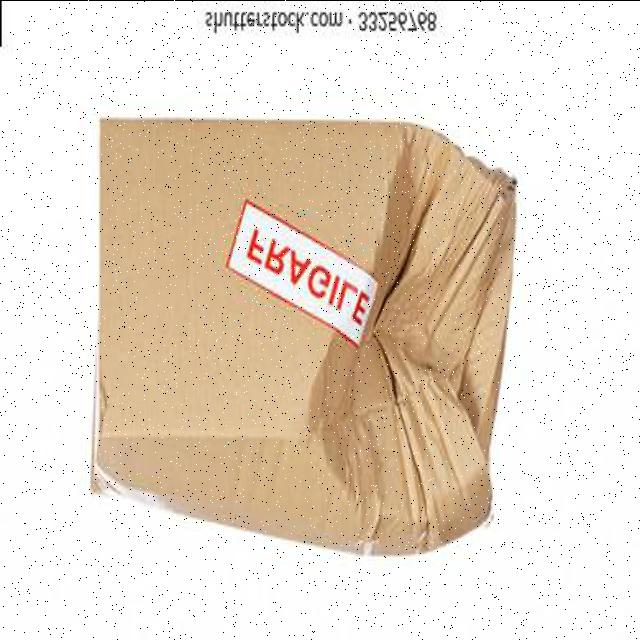defect: (82, 110, 522, 559)
